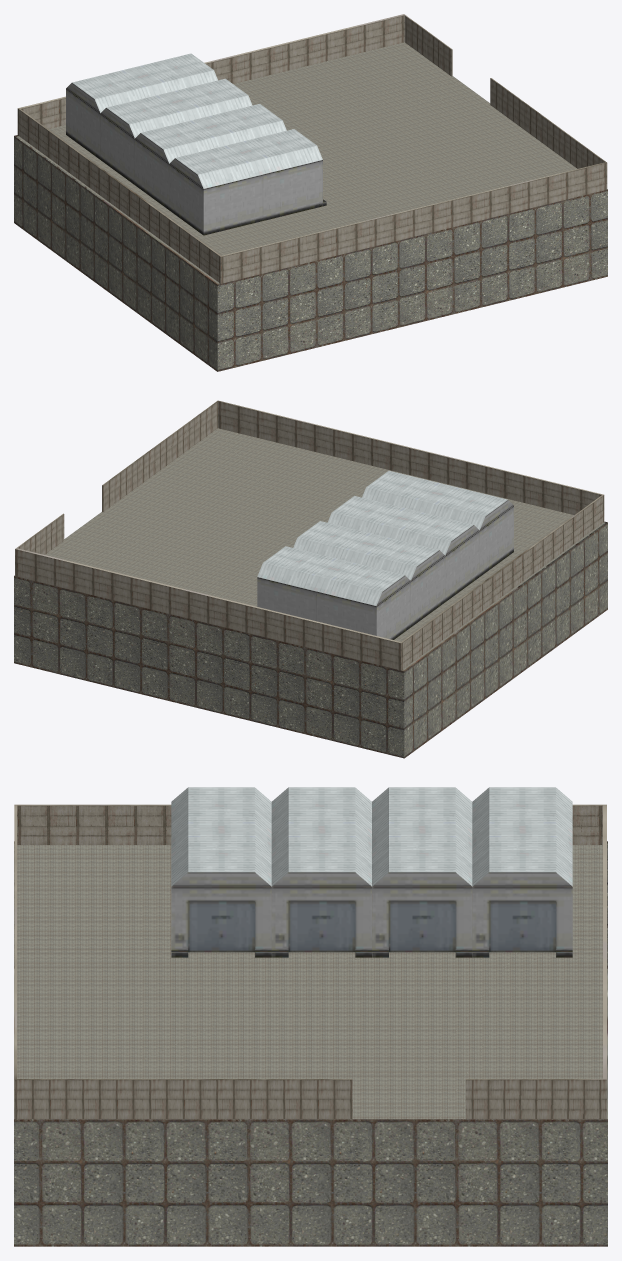
File: Ware_House.FBX
3 renders of one model, top to bottom at view 1: azimuth 30°, elevation 25°; view 2: azimuth 150°, elevation 25°; view 3: azimuth 270°, elevation 25°, orthographic. The views are drawn at different scales.
Parts seen in each view (by area): view 1: Ware_House; view 2: Ware_House; view 3: Ware_House.
Part boxes in pixels (left/top/right/bottom): Ware_House: left=14, top=14, right=607, bottom=371; Ware_House: left=14, top=400, right=607, bottom=758; Ware_House: left=14, top=787, right=607, bottom=1246.
Size of the model in its own units: 1688 by 594 by 1524.
Materials: 3 (3 with a texture image).
